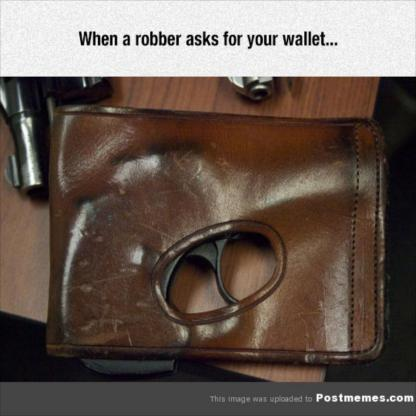Handgun: (159, 232, 240, 302)
